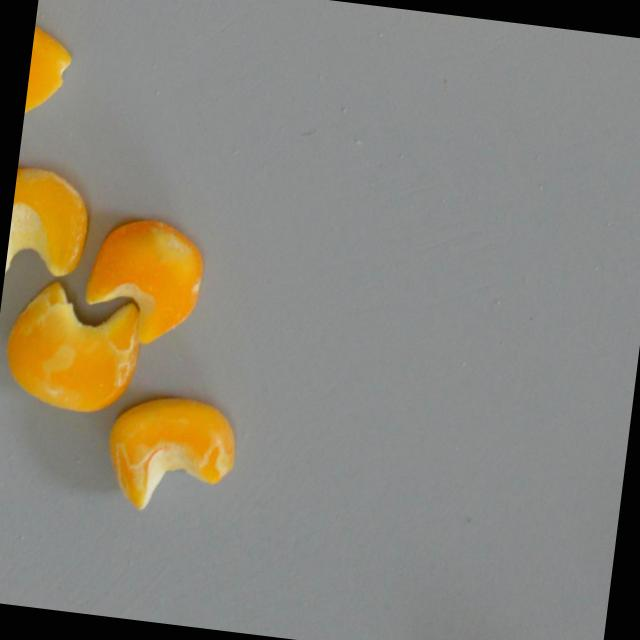dañado: (95, 383, 244, 528), (73, 206, 210, 353), (2, 163, 97, 291), (22, 13, 77, 130)
pelicula: (0, 271, 147, 423)
